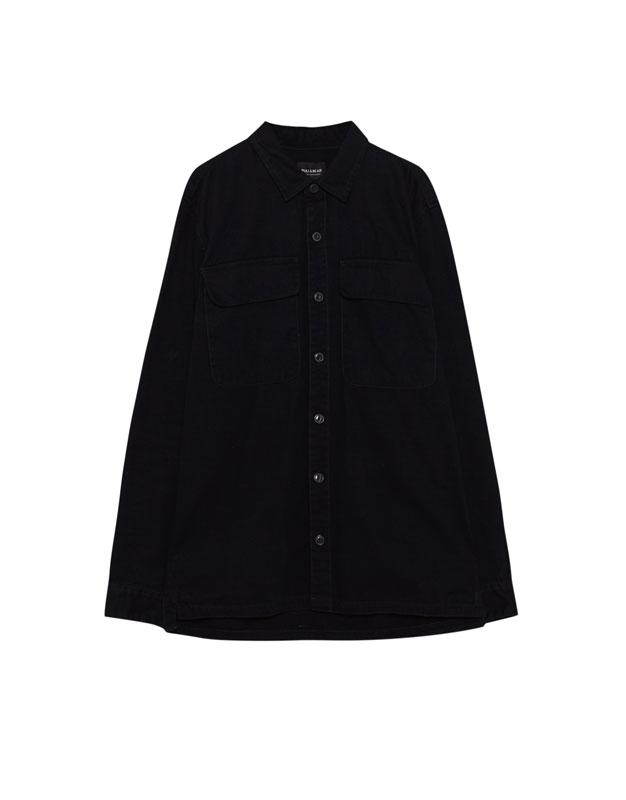teeshirt: (101, 113, 535, 667)
